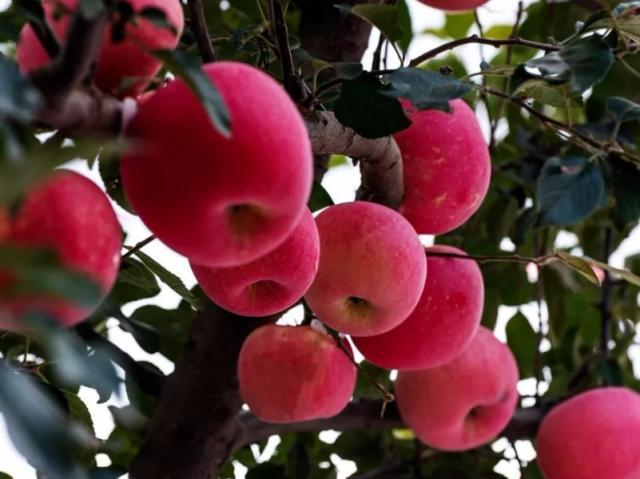apple: (122, 61, 311, 267), (1, 166, 122, 338), (304, 201, 425, 338), (352, 246, 484, 371), (16, 1, 183, 96), (396, 324, 520, 450), (385, 94, 491, 236), (190, 208, 320, 318), (237, 324, 356, 425), (534, 386, 640, 479)
